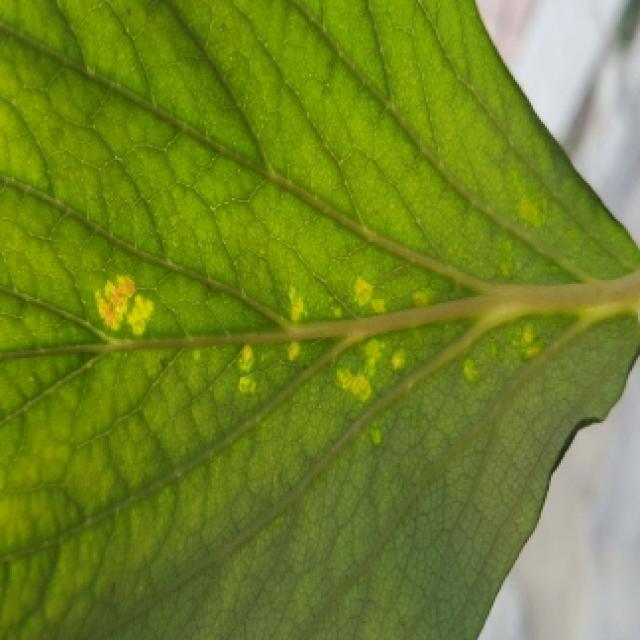Angular Leafspot: (0, 256, 569, 450)
